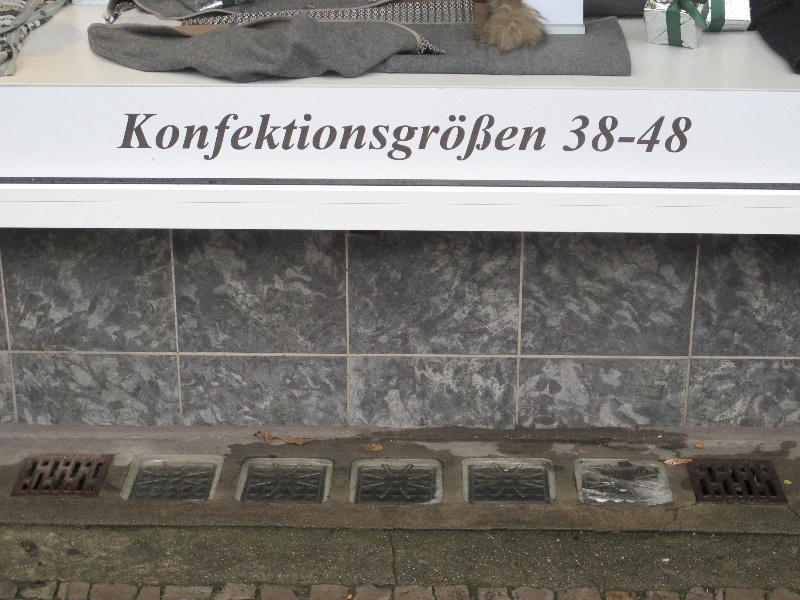text: (129, 113, 144, 164), (145, 113, 160, 164), (161, 113, 176, 164), (177, 113, 192, 164), (193, 113, 208, 164), (209, 113, 224, 164), (225, 113, 240, 164), (241, 113, 256, 164), (257, 113, 272, 164), (273, 113, 288, 164), (289, 113, 304, 164), (305, 113, 320, 164), (321, 113, 336, 164), (337, 113, 352, 164), (353, 113, 368, 164), (369, 113, 384, 164), (385, 113, 400, 164), (401, 113, 416, 164), (417, 113, 432, 164), (433, 113, 448, 164), (449, 113, 464, 164), (465, 113, 480, 164), (481, 113, 496, 164), (497, 113, 512, 164), (513, 113, 528, 164), (529, 113, 544, 164), (577, 115, 592, 154), (593, 115, 608, 154), (609, 115, 624, 154), (625, 115, 640, 154), (641, 115, 656, 154), (657, 115, 672, 154), (673, 115, 688, 154), (545, 113, 551, 164), (689, 115, 695, 154), (124, 113, 128, 164), (573, 115, 576, 154)
